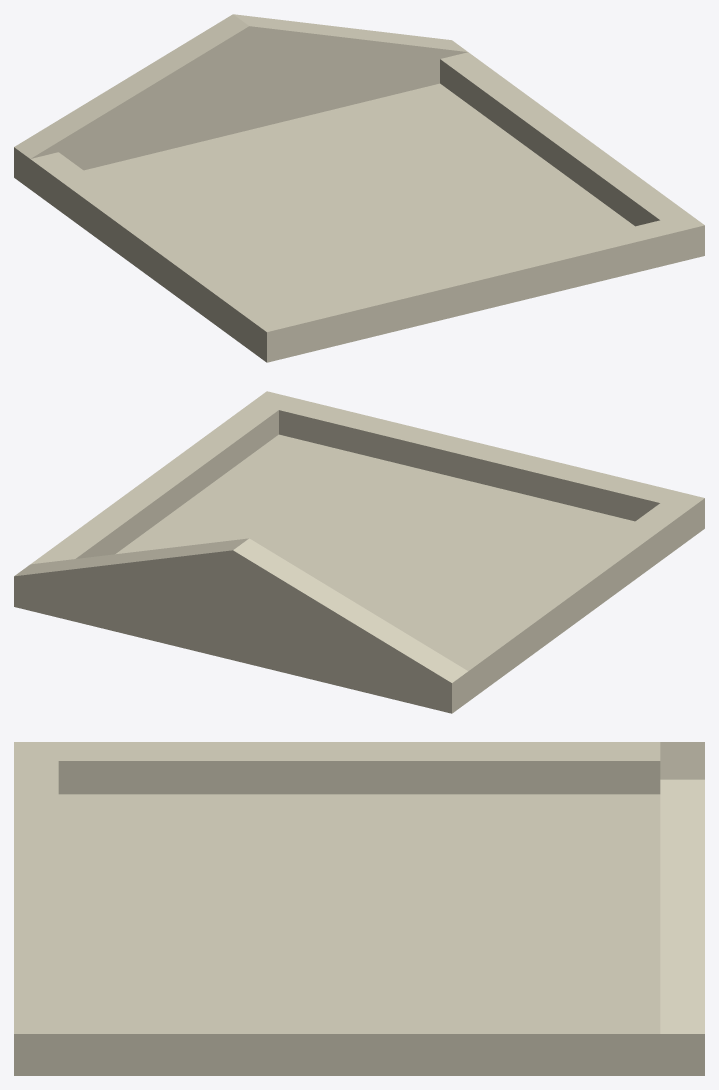
The model's file is Roof 25.FBX.
3 views of the same model, one above another, from view 1: azimuth 30°, elevation 25°; view 2: azimuth 150°, elevation 25°; view 3: azimuth 270°, elevation 25° (orthographic). The views are drawn at different scales.
Parts seen in each view (by area): view 1: Group173; view 2: Group173; view 3: Group173.
Part boxes in pixels (<box>): Group173: <box>14,14,704,362</box>; Group173: <box>14,391,704,713</box>; Group173: <box>14,742,704,1075</box>.
Bounding box in the file's own units: 29.53 × 7.09 × 29.53.
